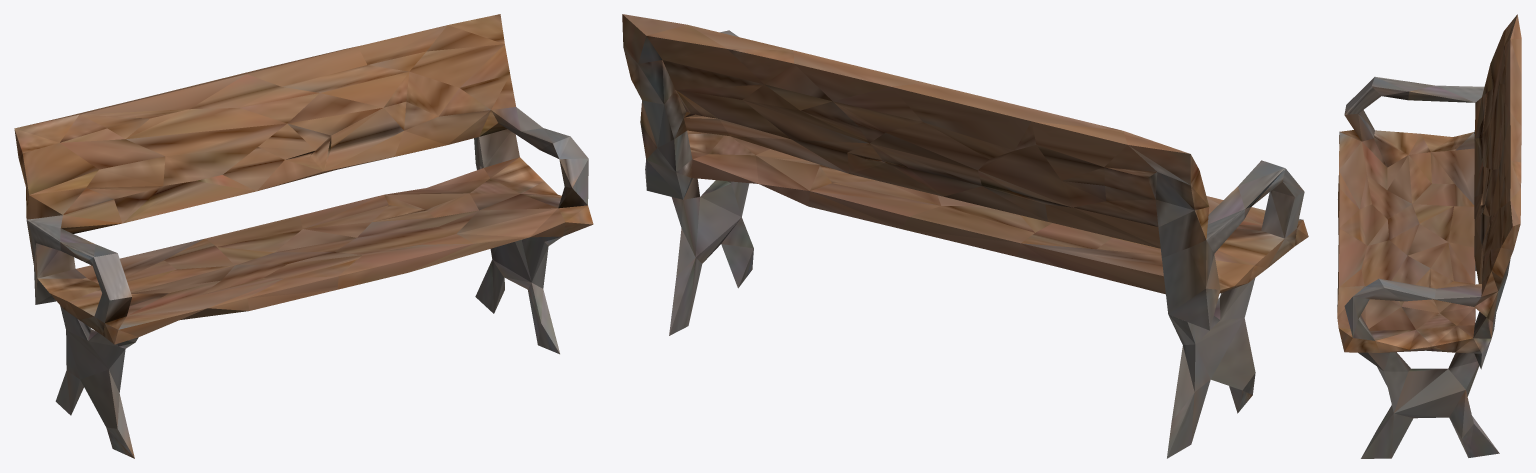
File: park_bench_low.glb
The picture shows the model from 3 angles, left to right: view 1: azimuth 30°, elevation 25°; view 2: azimuth 150°, elevation 25°; view 3: azimuth 270°, elevation 25°; orthographic projection. The views are drawn at different scales.
Parts seen in each view (by area): view 1: m; view 2: m; view 3: m.
Boxes of the visible parts, x1,y1,x2,y2 form: m: (14, 14, 593, 458); m: (622, 14, 1308, 458); m: (1337, 14, 1521, 458).
Bounding box in the file's own units: 1.54 × 0.85 × 0.5691.
Materials: 1 (1 with a texture image).
